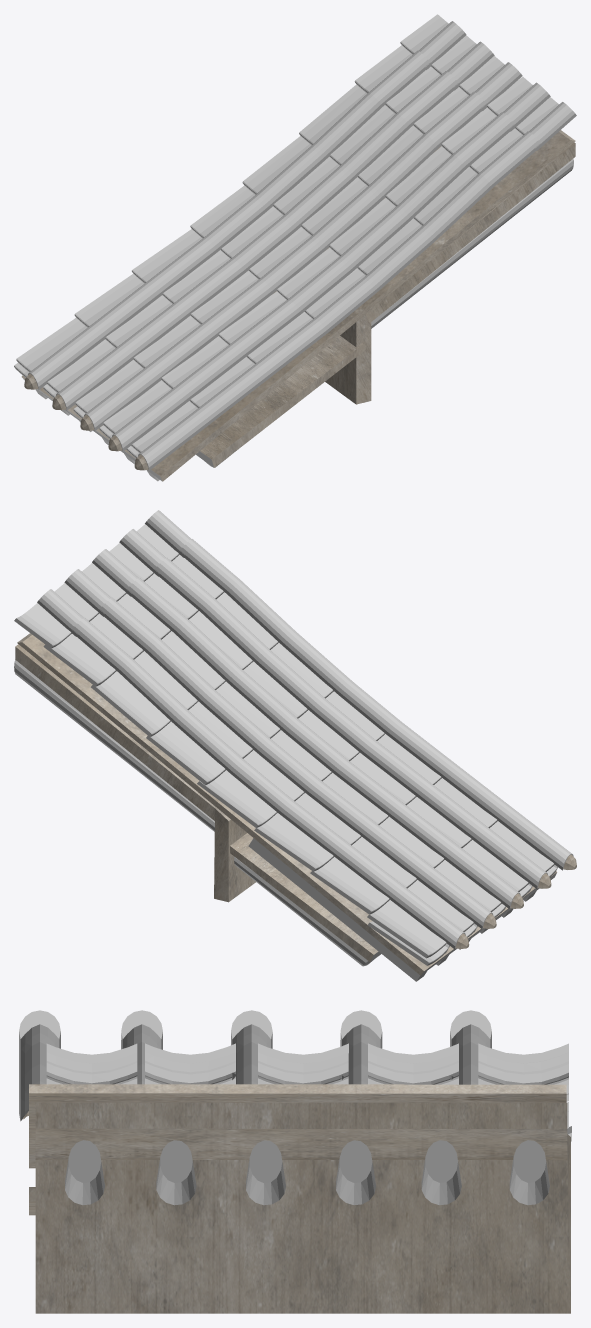
File: SM_Roof_57.fbx
3 views of the same model, one above another, from view 1: azimuth 30°, elevation 25°; view 2: azimuth 150°, elevation 25°; view 3: azimuth 270°, elevation 25° (orthographic). The views are drawn at different scales.
Parts seen in each view (by area): view 1: SM_Roof_57; view 2: SM_Roof_57; view 3: SM_Roof_57.
Boxes of the visible parts, x1,y1,x2,y2 form: SM_Roof_57: [14, 14, 576, 481]; SM_Roof_57: [14, 510, 576, 981]; SM_Roof_57: [19, 1010, 571, 1313].
Bounding box in the file's own units: 438 × 241 × 272.
